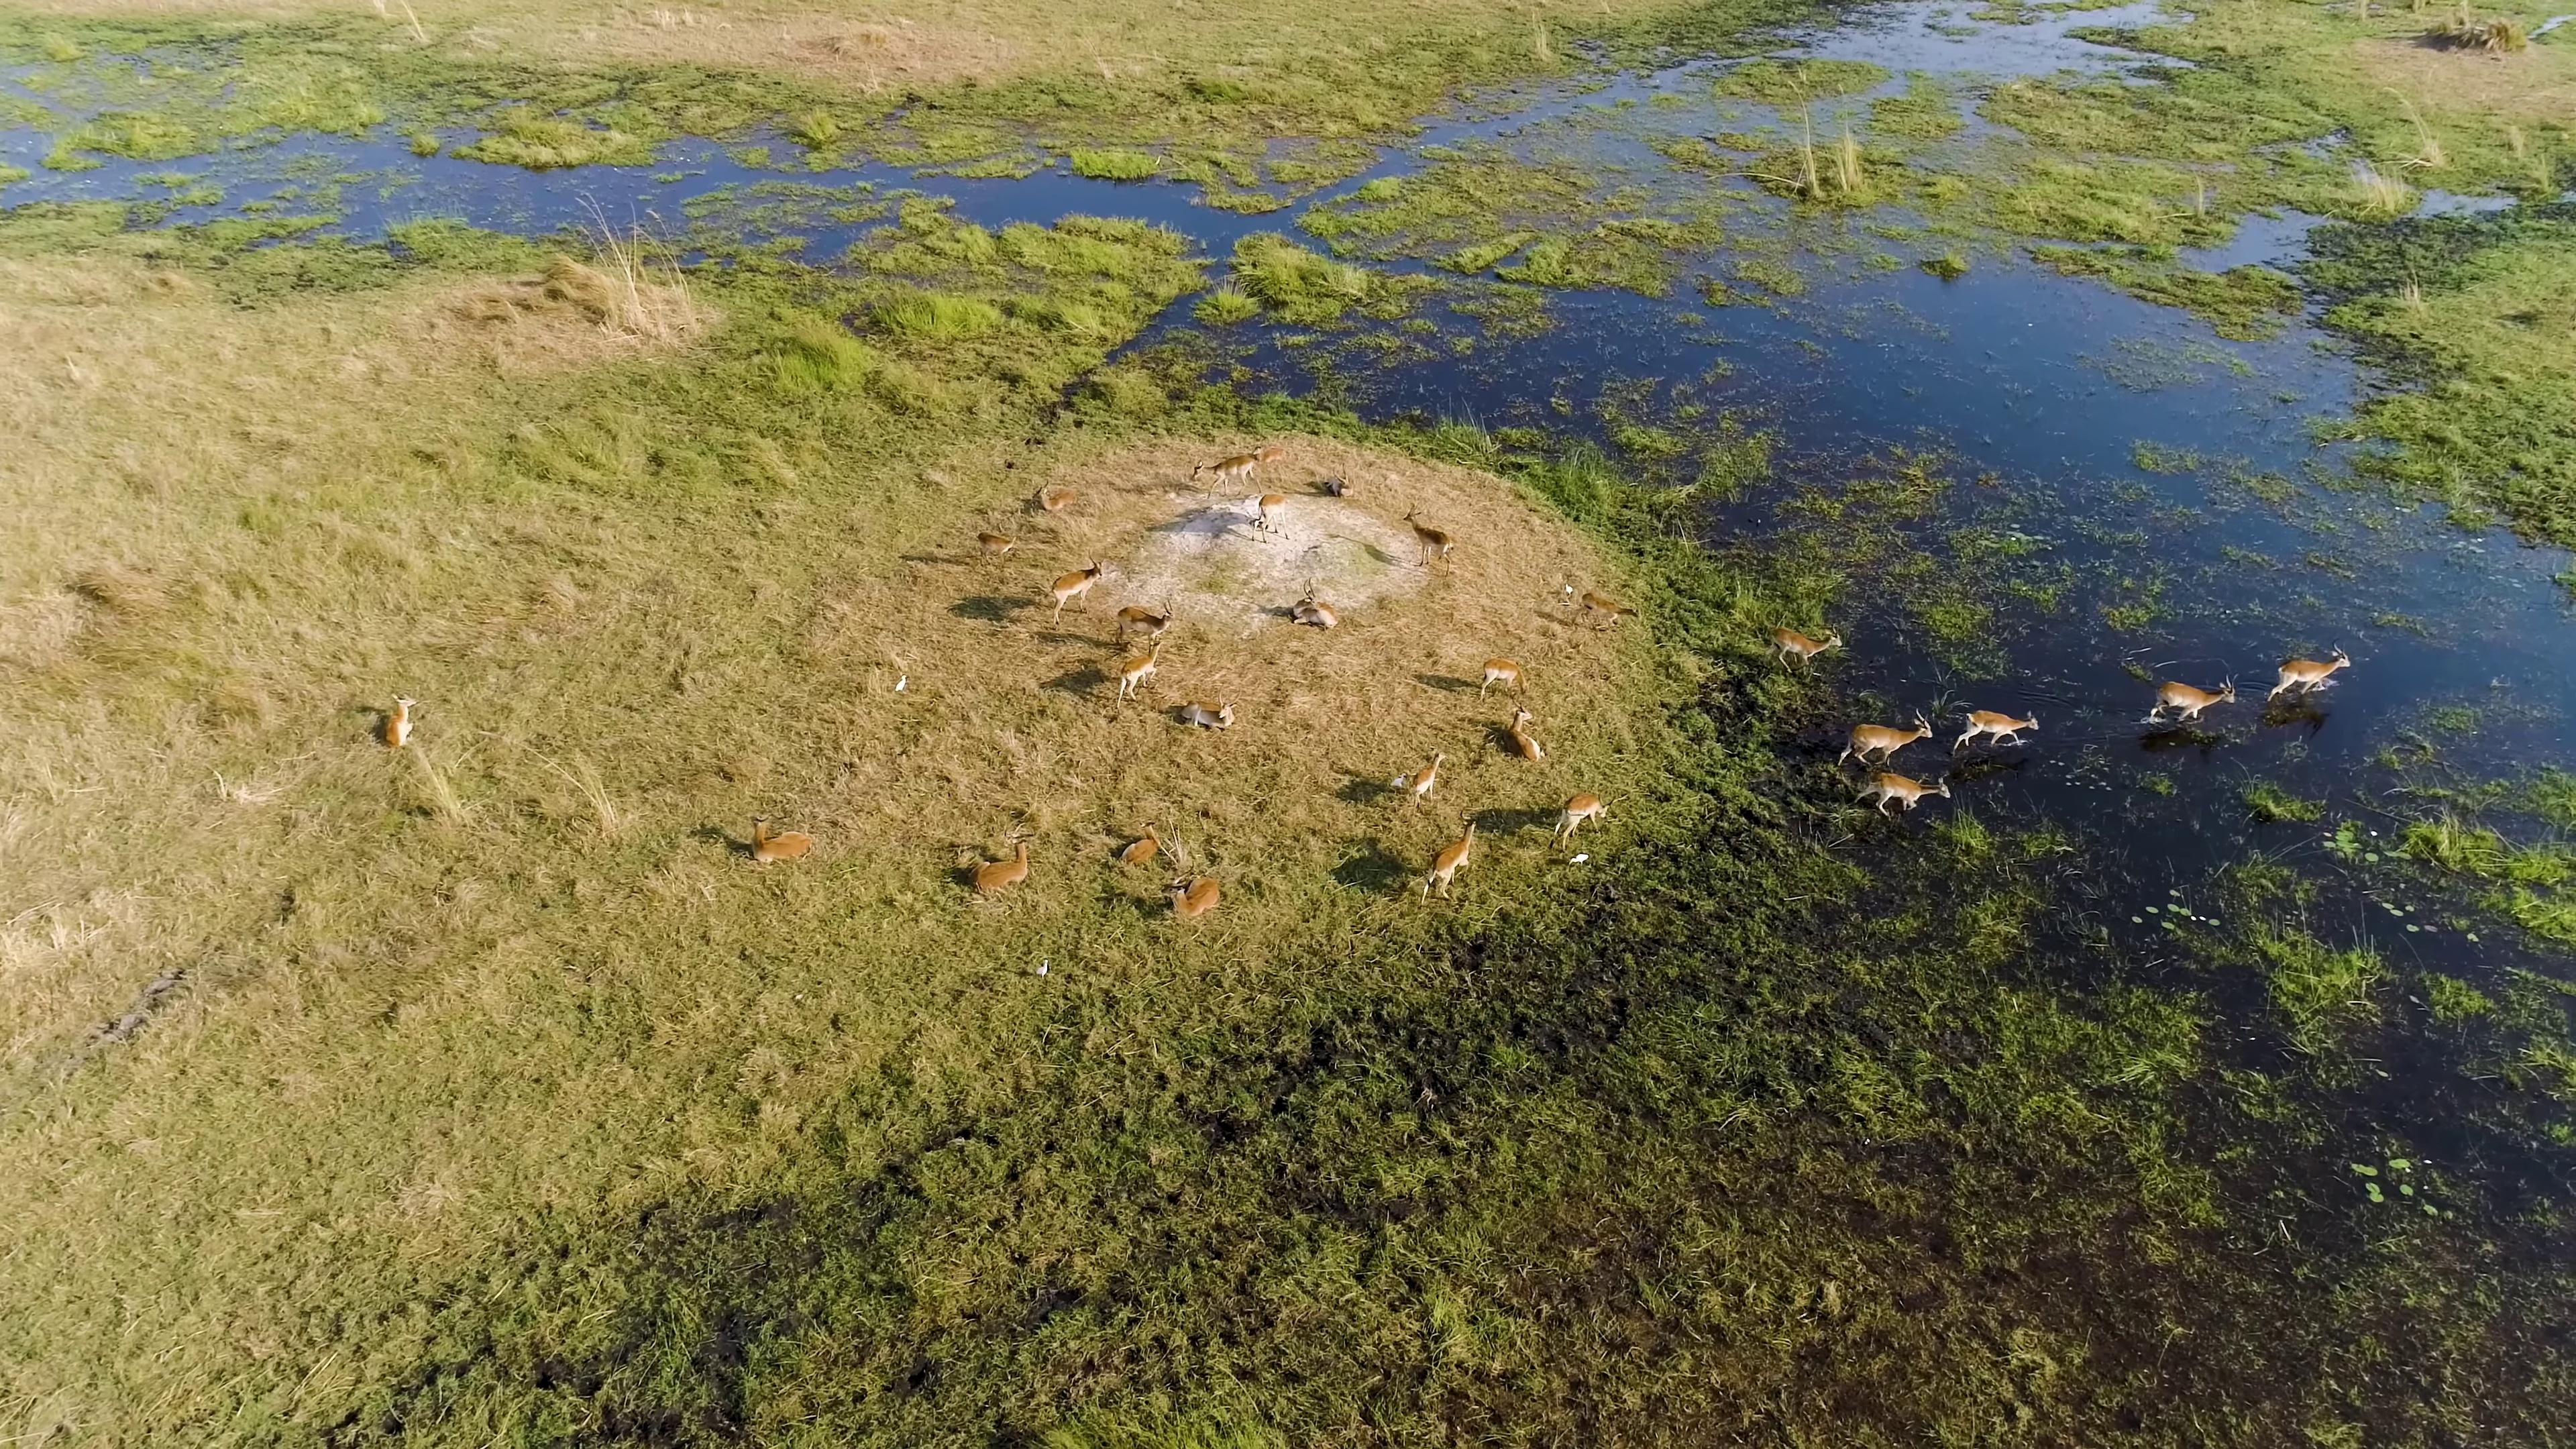Deer: (2250, 628, 2364, 711), (1852, 748, 1955, 830), (2144, 662, 2245, 741), (1946, 695, 2054, 770), (1415, 801, 1488, 911), (1829, 706, 1936, 773), (964, 819, 1044, 895), (1042, 545, 1113, 626), (1759, 617, 1847, 672), (1399, 497, 1458, 579), (1108, 593, 1178, 658), (1279, 570, 1345, 637), (1548, 787, 1612, 856), (745, 807, 816, 867), (1168, 679, 1247, 731), (1113, 632, 1166, 708), (1187, 449, 1263, 499), (1571, 589, 1644, 637), (1470, 656, 1536, 708), (1161, 870, 1223, 924), (1500, 692, 1543, 764), (1115, 816, 1166, 874), (1247, 485, 1293, 547), (1405, 747, 1451, 803), (968, 524, 1028, 566), (380, 688, 419, 752), (1026, 476, 1081, 513), (1318, 458, 1364, 502), (1246, 446, 1290, 464)
